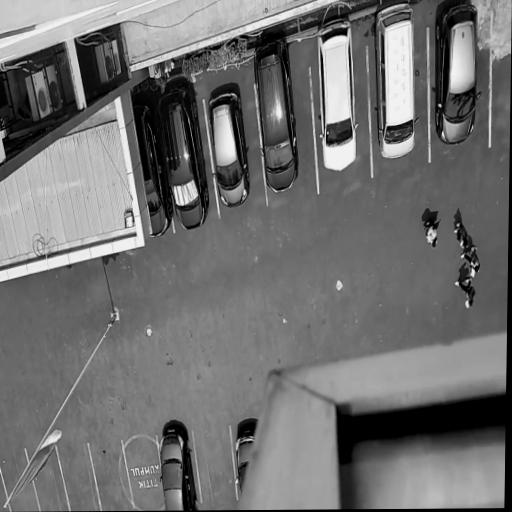Car: (363, 0, 423, 168), (247, 27, 303, 200), (308, 8, 363, 180), (157, 79, 214, 239), (124, 76, 177, 245), (427, 0, 487, 149), (201, 78, 256, 217), (149, 418, 201, 511), (223, 407, 261, 510)
Space Available: (193, 425, 237, 504), (122, 433, 166, 508), (55, 445, 102, 511), (89, 440, 133, 510), (25, 448, 69, 512), (0, 453, 39, 512), (0, 473, 9, 511)
